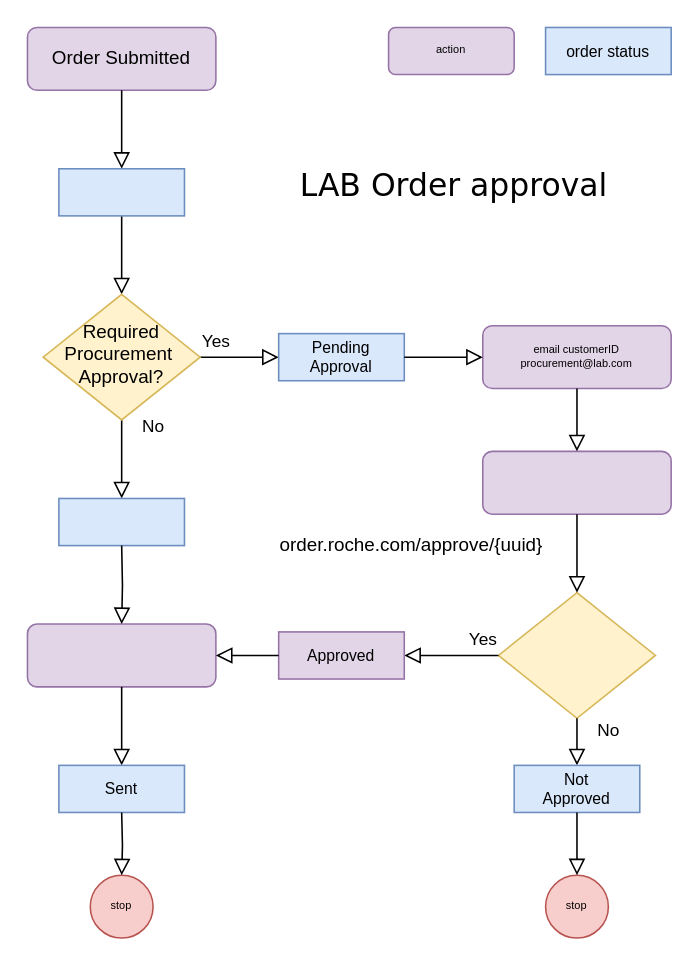
This 699x966 diagram has some shape labels left out. The centre of each missing label's shape, as x and y in pixels:
"Auto Approved" belongs at point 120,521.
"Generate XLS, email laborder@roche.com" belongs at point 121,655.
"New" belongs at point 120,191.
"Order Approved ?" belongs at point 576,654.
"review order online" belongs at point 576,482.
